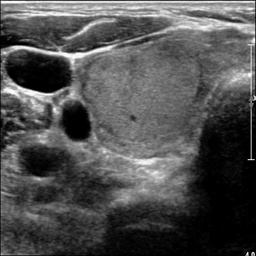mass: (85, 44, 201, 156)
